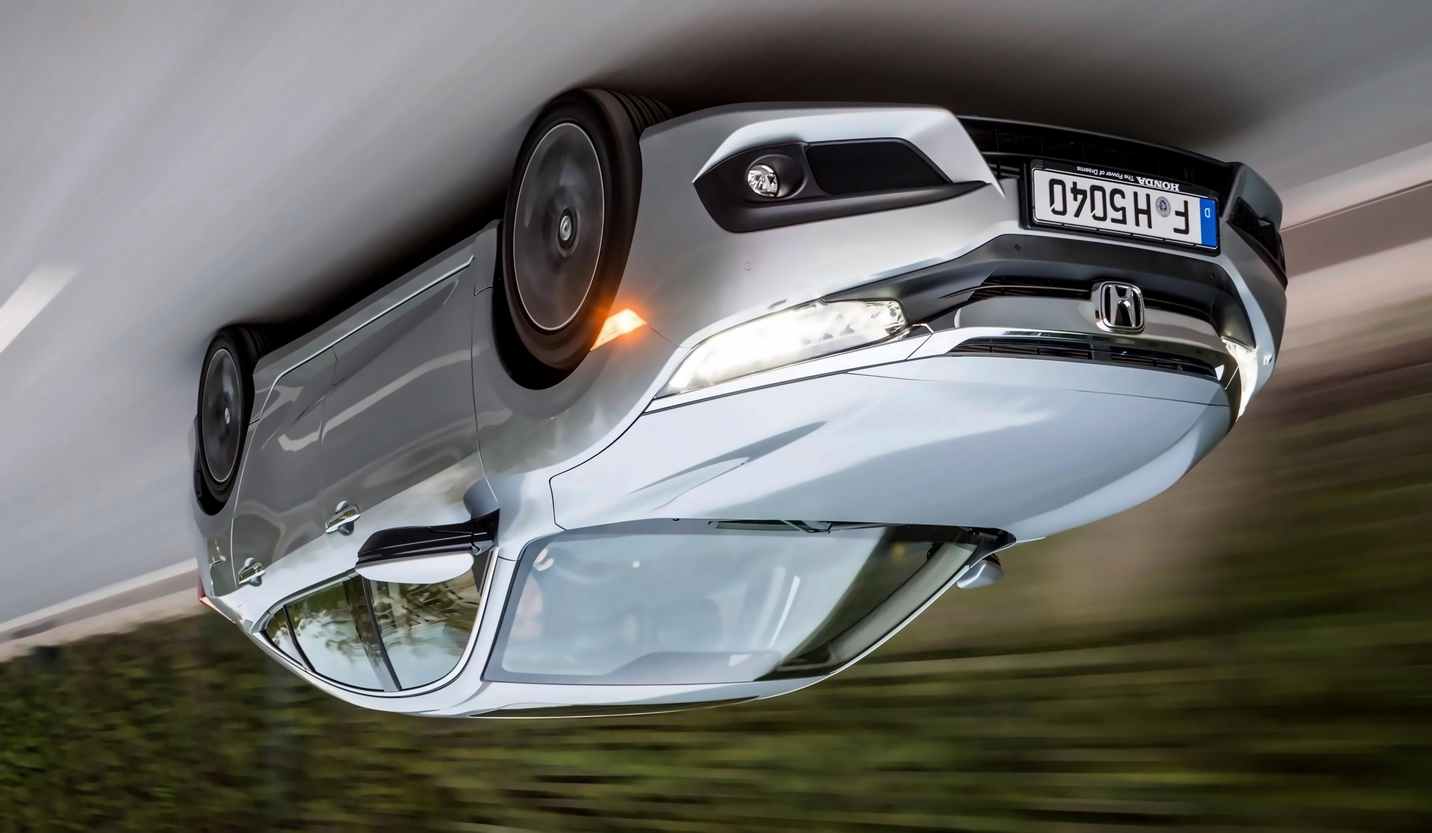Car hood: (545, 353, 1238, 537)
Fender - -F-L-: (466, 281, 685, 549)
Front bumper: (643, 103, 1290, 394)
Headlight - -L-: (648, 292, 908, 412)
Passenger-s door - -F-L-: (323, 203, 503, 709)
Passenger-s door - -R-L-: (222, 276, 389, 719)
Side bumper - -L-: (239, 218, 497, 443)
Side mirror - -L-: (347, 520, 492, 587)
